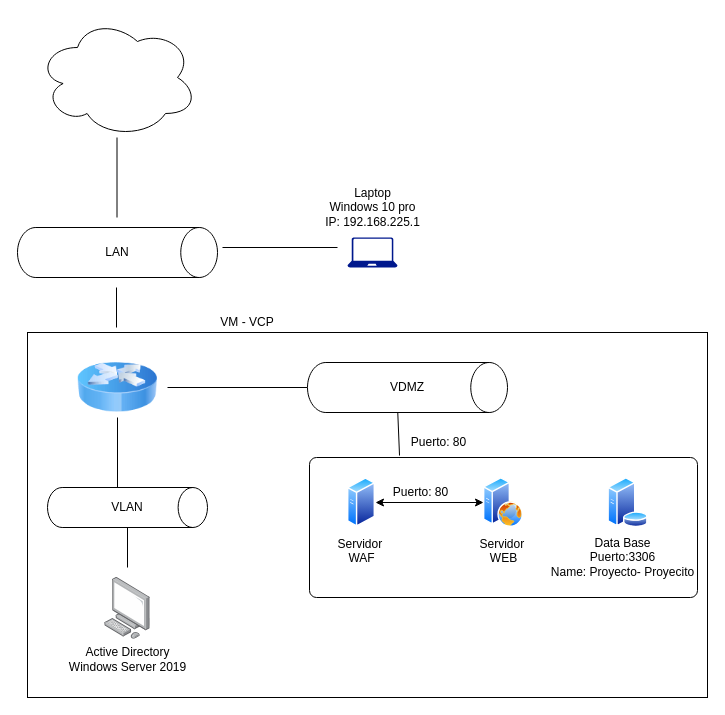
Image size: 725x715. Some labels were removed from this diagram. The centre of each missing label's shape, as x and y in pixels:
Firewall: (x=117, y=387)
Internet: (x=117, y=77)
